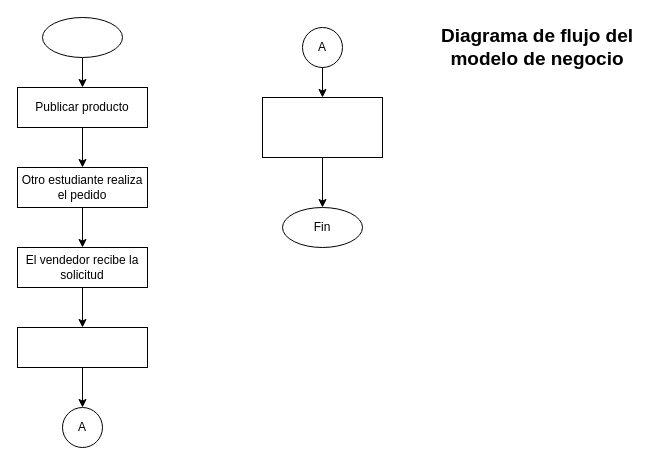
Some shapes in this 665 by 465 pixel diagram are drawn without their labels. Here are the shapes that lost their labels. From the top down, the centre of each, then its label:
At pixel 82 37: "Inicio".
At pixel 322 127: "La plataforma cobra un porcentaje de comision en funcion del total de la venta".
At pixel 82 347: "Se realiza el pago".
